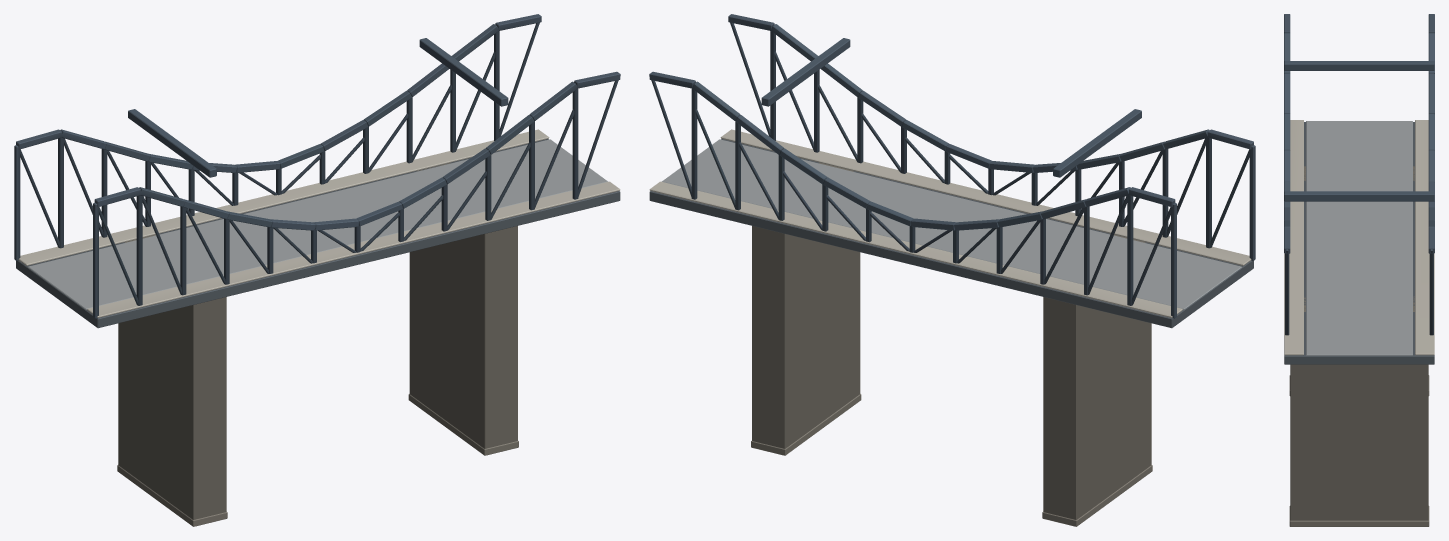
File: br-story.glb
3 renders of one model, left to right at view 1: azimuth 30°, elevation 25°; view 2: azimuth 150°, elevation 25°; view 3: azimuth 270°, elevation 25°, orthographic. The views are drawn at different scales.
Bounding box in the file's own units: 28.16 × 18.2 × 7.62.
